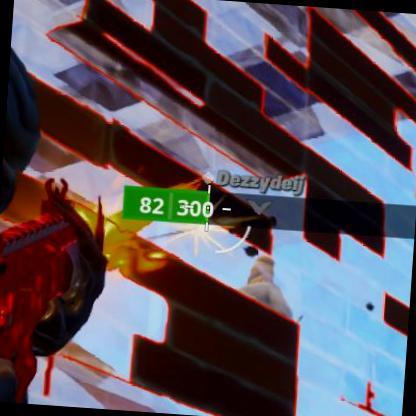person: (226, 264, 303, 390)
